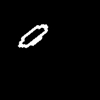chain: (18, 25, 47, 47)
